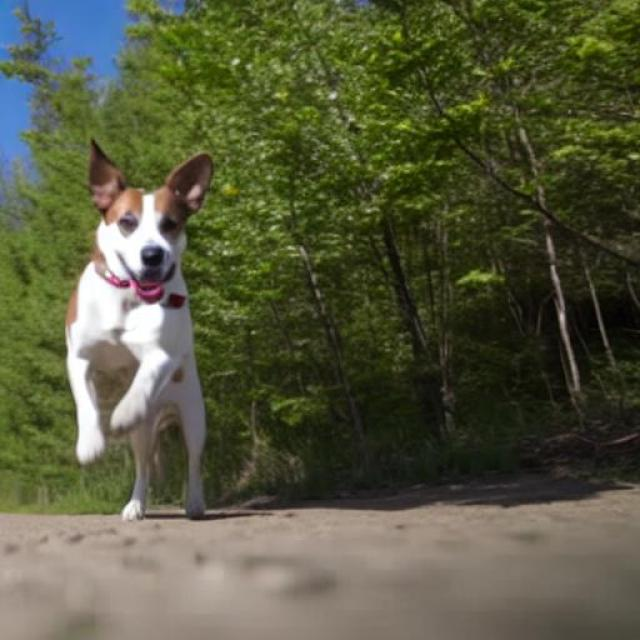Dog: (65, 137, 213, 521)
